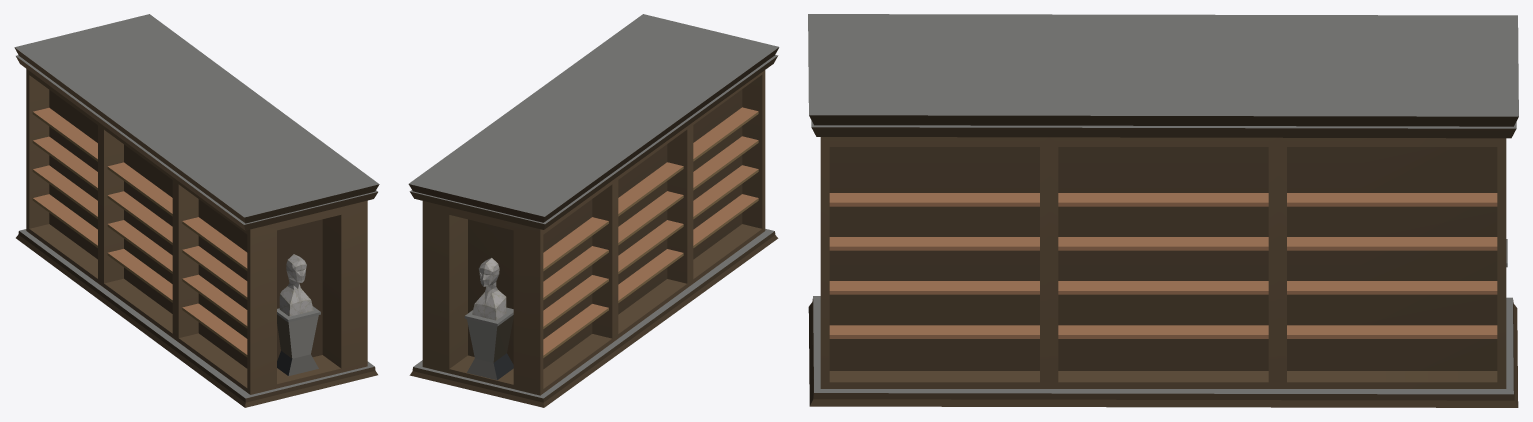
The model's file is LibraryAssets.fbx.
3 views of the same model, side by side, from view 1: azimuth 30°, elevation 25°; view 2: azimuth 150°, elevation 25°; view 3: azimuth 270°, elevation 25° (orthographic). The views are drawn at different scales.
Visible parts, largest first — view 1: LibraryCloset; view 2: LibraryCloset; view 3: LibraryCloset.
Boxes of the visible parts, x1,y1,x2,y2 form: LibraryCloset: (14, 14, 379, 407); LibraryCloset: (408, 14, 779, 407); LibraryCloset: (808, 14, 1518, 407).
Size of the model in its own units: 247 by 327 by 722.
